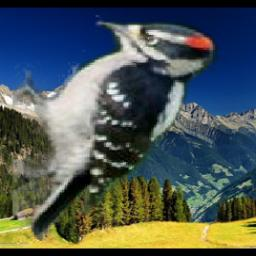Woodpecker: (14, 13, 220, 241)
